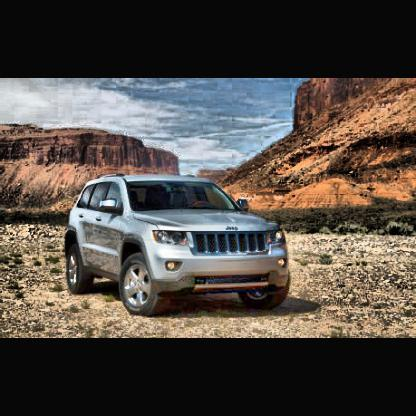Jeep Grand Cherokee SUV 2012: (65, 173, 293, 318)
